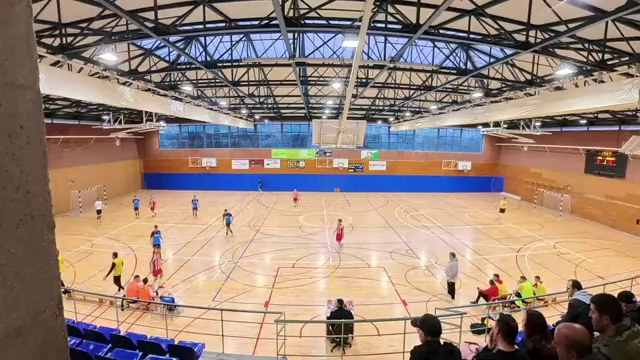players blue shirt: (150, 225, 161, 249), (224, 210, 232, 234), (133, 195, 139, 217), (192, 196, 198, 217)
players red shirt: (150, 249, 163, 291), (334, 219, 343, 246), (149, 197, 156, 216), (292, 189, 299, 206)
